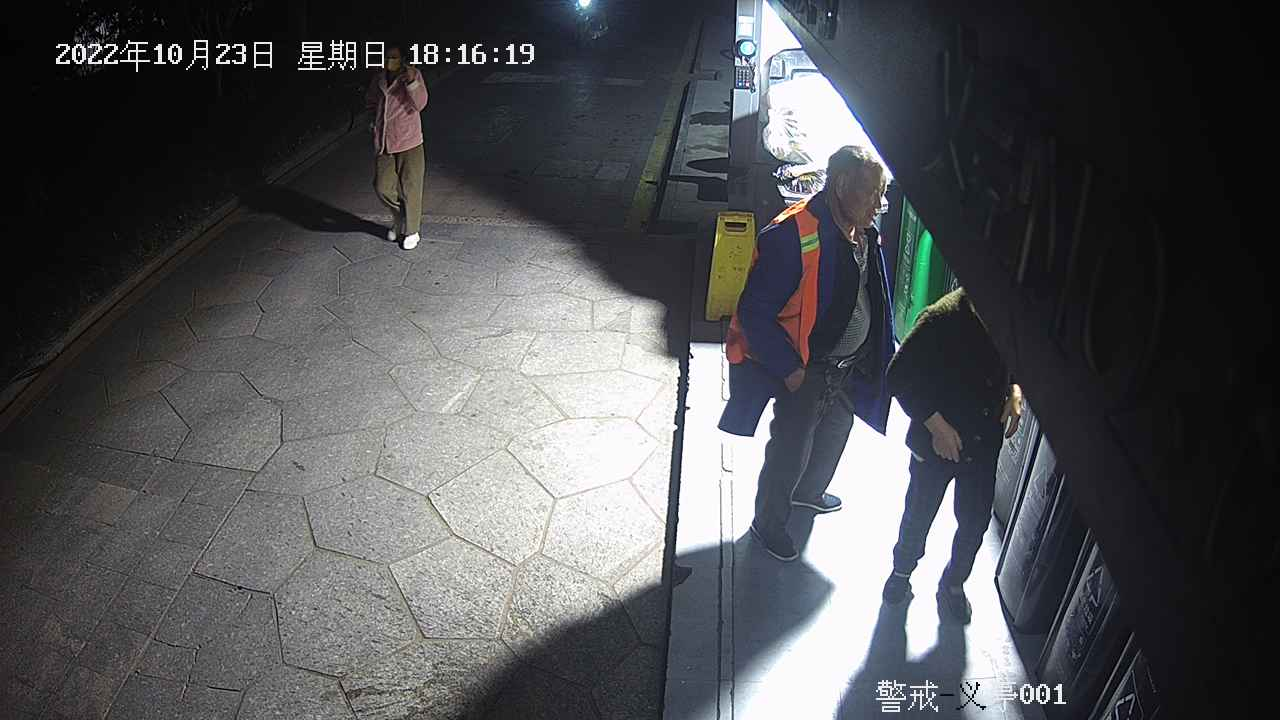person: (880, 284, 1024, 622), (363, 41, 427, 252)
worker: (715, 144, 899, 563)
